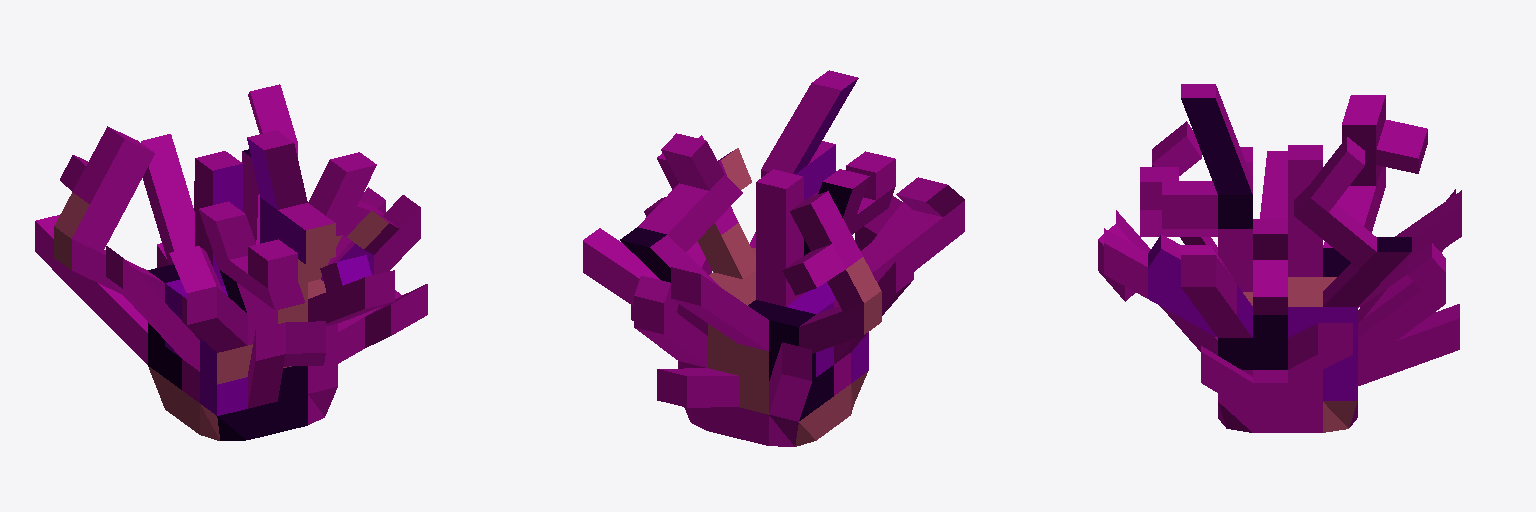
Rendered from short_coral 1.obj.
3 views of the same model, side by side, from view 1: azimuth 30°, elevation 25°; view 2: azimuth 150°, elevation 25°; view 3: azimuth 270°, elevation 25° (orthographic).
Visible parts, largest first — view 1: Cube; view 2: Cube; view 3: Cube.
Boxes of the visible parts, box(x1,y1,x2,y2) form: Cube: box(35, 84, 427, 440); Cube: box(583, 70, 964, 446); Cube: box(1098, 84, 1461, 432).
Size of the model in its own units: 4.93 by 4.82 by 5.23.